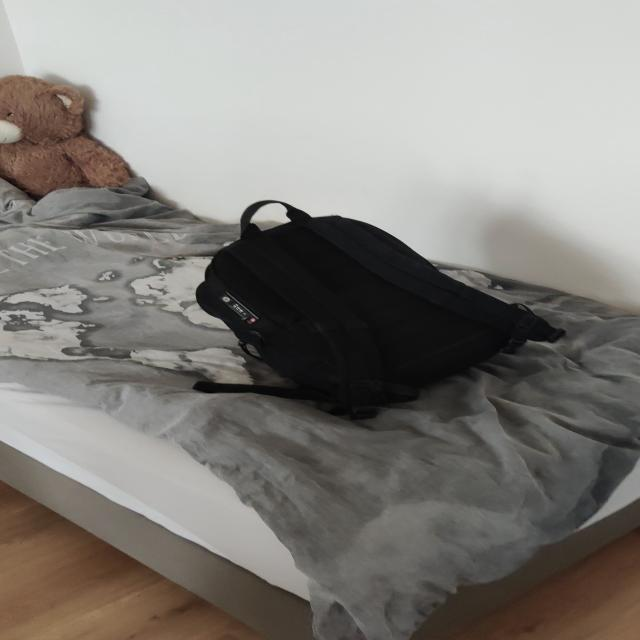backpack: (177, 200, 556, 419)
